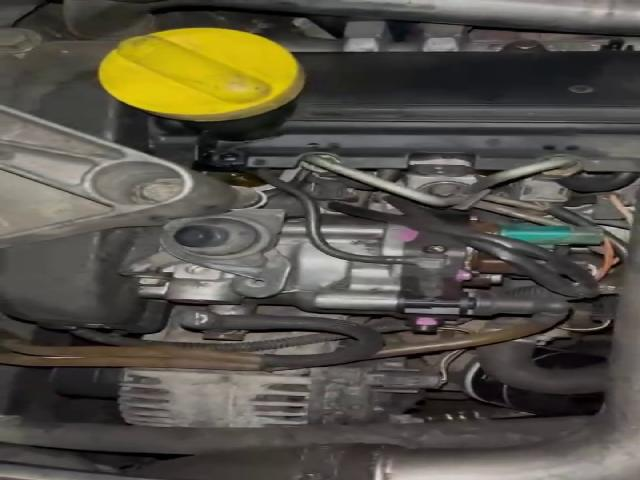alternator: (117, 357, 447, 428)
high_pressure_pump: (167, 215, 516, 333)
